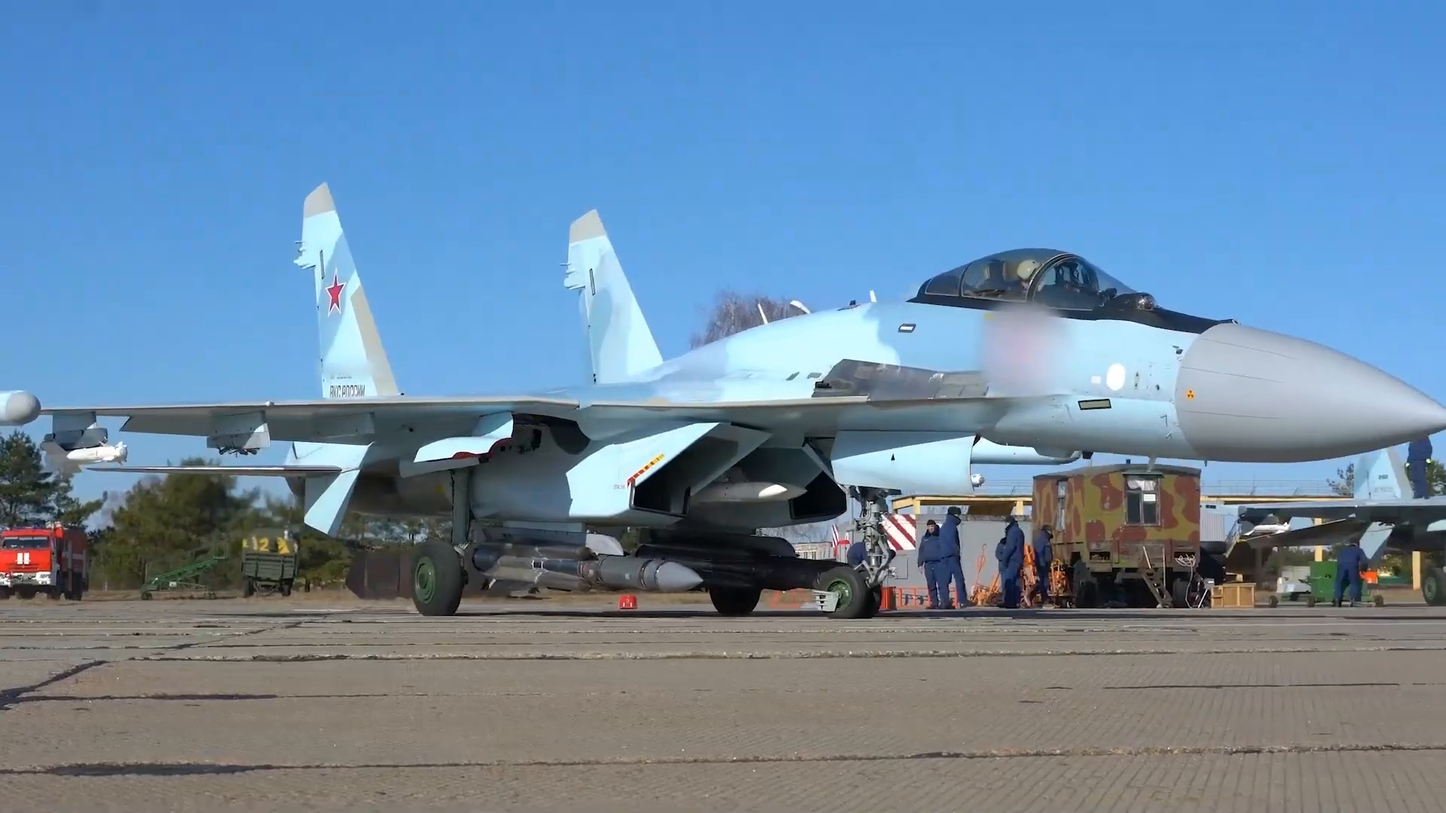Su35: (0, 180, 1446, 615)
